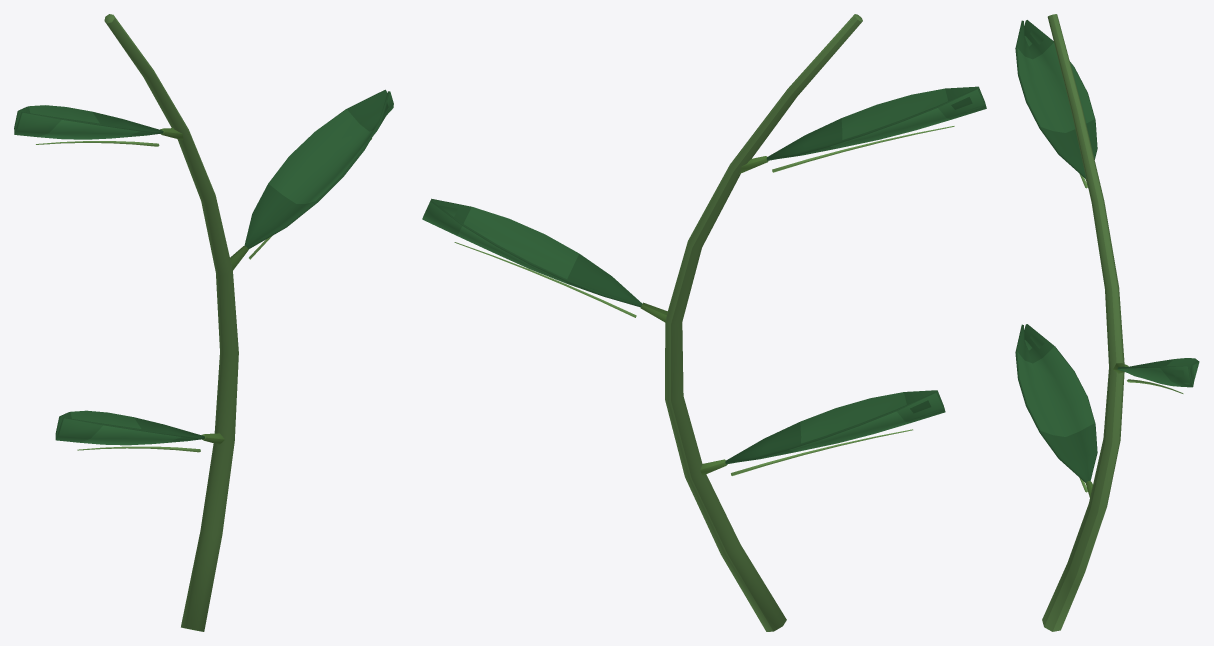
Rendered from garden-zinnia-bud-stem-3.glb.
The picture shows the model from 3 angles, left to right: view 1: azimuth 30°, elevation 25°; view 2: azimuth 150°, elevation 25°; view 3: azimuth 270°, elevation 25°; orthographic projection. The views are drawn at different scales.
Parts seen in each view (by area): view 1: zinnia-bud-stem-3; view 2: zinnia-bud-stem-3; view 3: zinnia-bud-stem-3.
Part boxes in pixels (x1,y1,x2,y2): zinnia-bud-stem-3: [14, 14, 393, 631]; zinnia-bud-stem-3: [422, 14, 986, 631]; zinnia-bud-stem-3: [1015, 14, 1199, 631].
Bounding box in the file's own units: 0.3112 × 0.401 × 0.1157.
